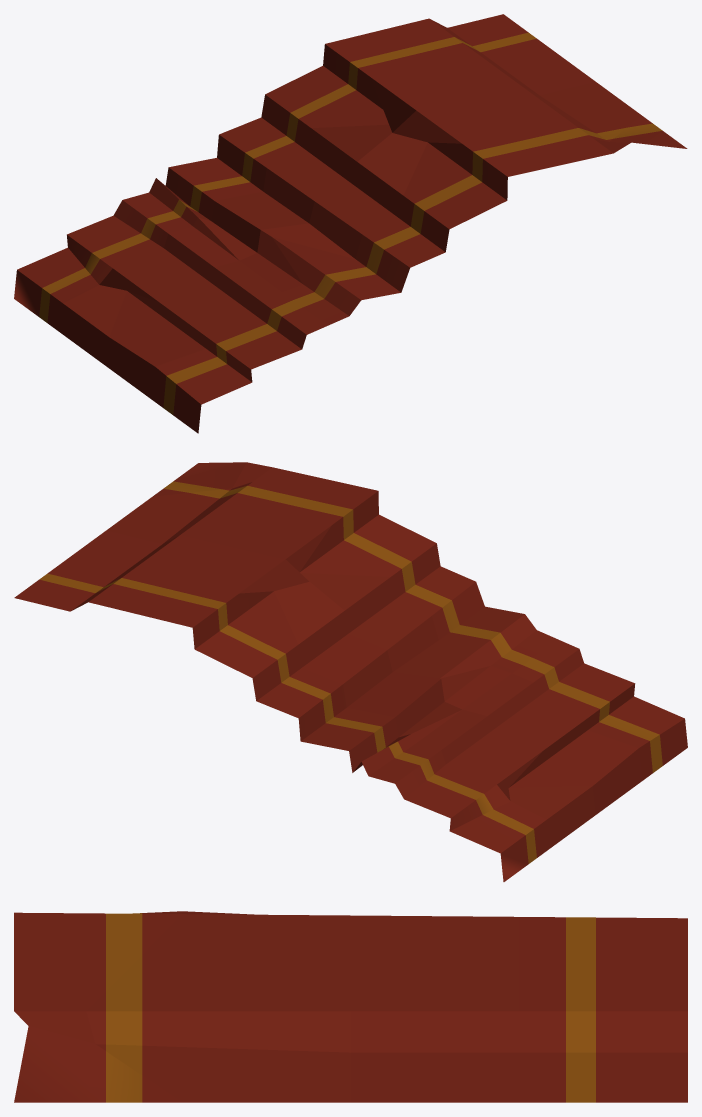
The model's file is Carpet_Stairs.fbx.
The picture shows the model from 3 angles, top to bottom: view 1: azimuth 30°, elevation 25°; view 2: azimuth 150°, elevation 25°; view 3: azimuth 270°, elevation 25°; orthographic projection. The views are drawn at different scales.
Parts seen in each view (by area): view 1: carpet_stairs; view 2: carpet_stairs; view 3: carpet_stairs.
Part boxes in pixels (box(x1,y1,x2,y2)): carpet_stairs: box(14, 14, 687, 433); carpet_stairs: box(14, 462, 687, 881); carpet_stairs: box(14, 911, 687, 1102).
Bounding box in the file's own units: 5.88 × 2.09 × 3.84.
